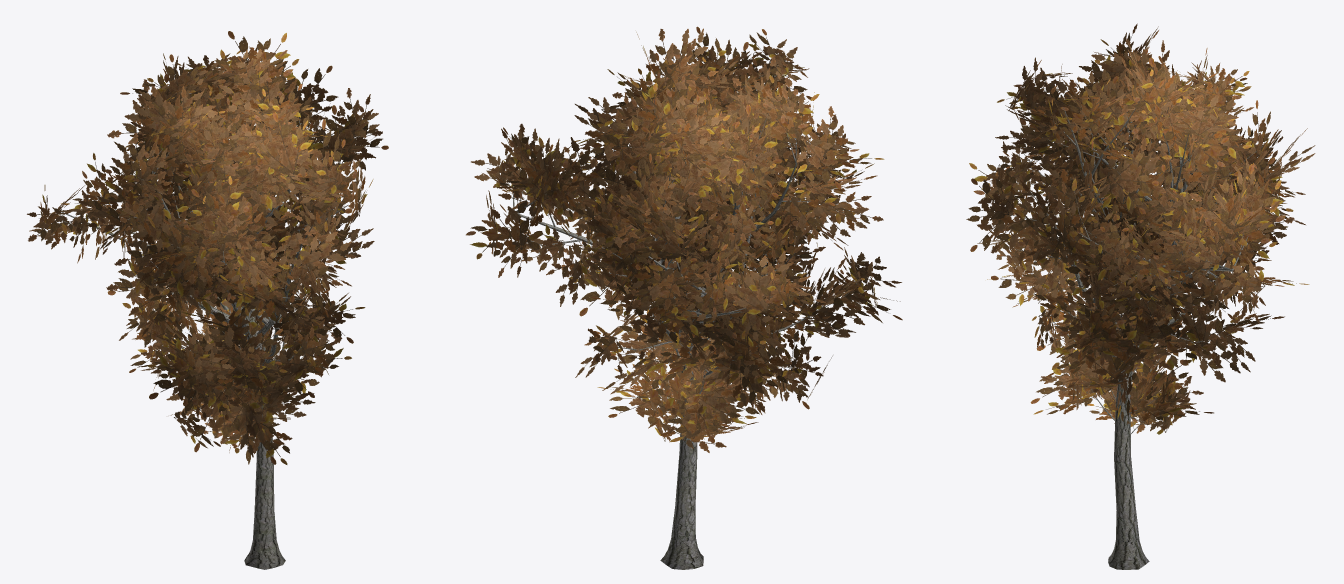
Rendered from tree_oakAutumn.glb.
3 renders of one model, left to right at view 1: azimuth 30°, elevation 25°; view 2: azimuth 150°, elevation 25°; view 3: azimuth 270°, elevation 25°, orthographic. The views are drawn at different scales.
Visible parts, largest first — view 1: plant; view 2: plant; view 3: plant.
Boxes of the visible parts, left/top/right/bottom form: plant: left=27, top=31, right=388, bottom=569; plant: left=466, top=26, right=902, bottom=569; plant: left=966, top=23, right=1315, bottom=569.
Size of the model in its own units: 11.13 by 15.17 by 10.01.
Materials: 2 (2 with a texture image).
